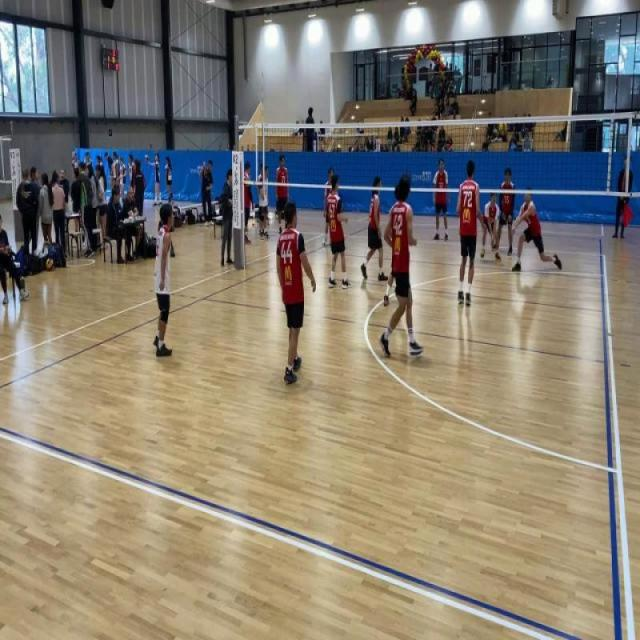volleyball: (497, 122, 508, 136), (46, 257, 54, 272), (148, 234, 153, 242), (144, 154, 148, 162)
